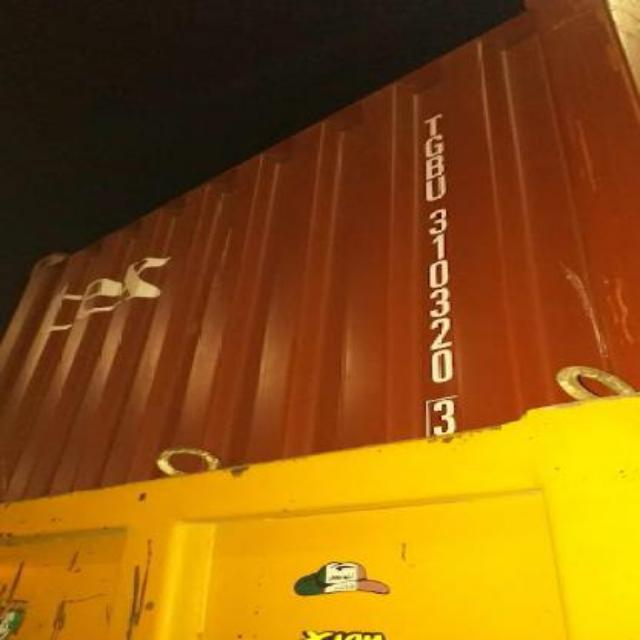0: (418, 351, 458, 384), (420, 258, 458, 288)
1: (420, 232, 460, 258)
2: (418, 319, 456, 349)
3: (418, 289, 458, 319), (428, 400, 458, 436), (422, 207, 454, 233)
B: (414, 156, 458, 177)
G: (416, 134, 452, 156)
T: (418, 112, 450, 136)
U: (412, 178, 460, 202)
